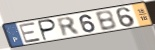6: (115, 7, 136, 28), (79, 13, 97, 33)
B: (94, 9, 119, 32)
E: (18, 21, 43, 44)
P: (38, 18, 59, 42)
R: (55, 16, 82, 38)
